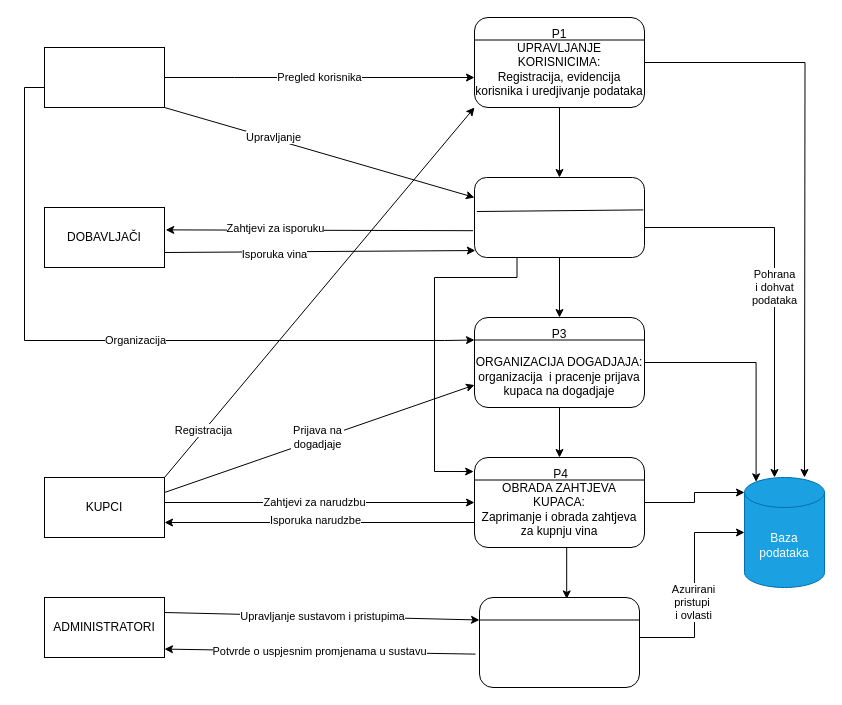
The diagram is 842 pixels wide and 705 high, and some of its shapes have lost their labels. Each missing label, with the box of its shape:
DJELATNICI: (44, 46, 164, 108)
P2 EVIDENCIJA ZALIHA : Prikaz i praćenje zaliha vina: (474, 176, 644, 258)
P5 ADMINISTRACIJA SUSTAVA: Upravljanje pravima pristupa, upravljanje ulogama: (478, 596, 640, 688)
